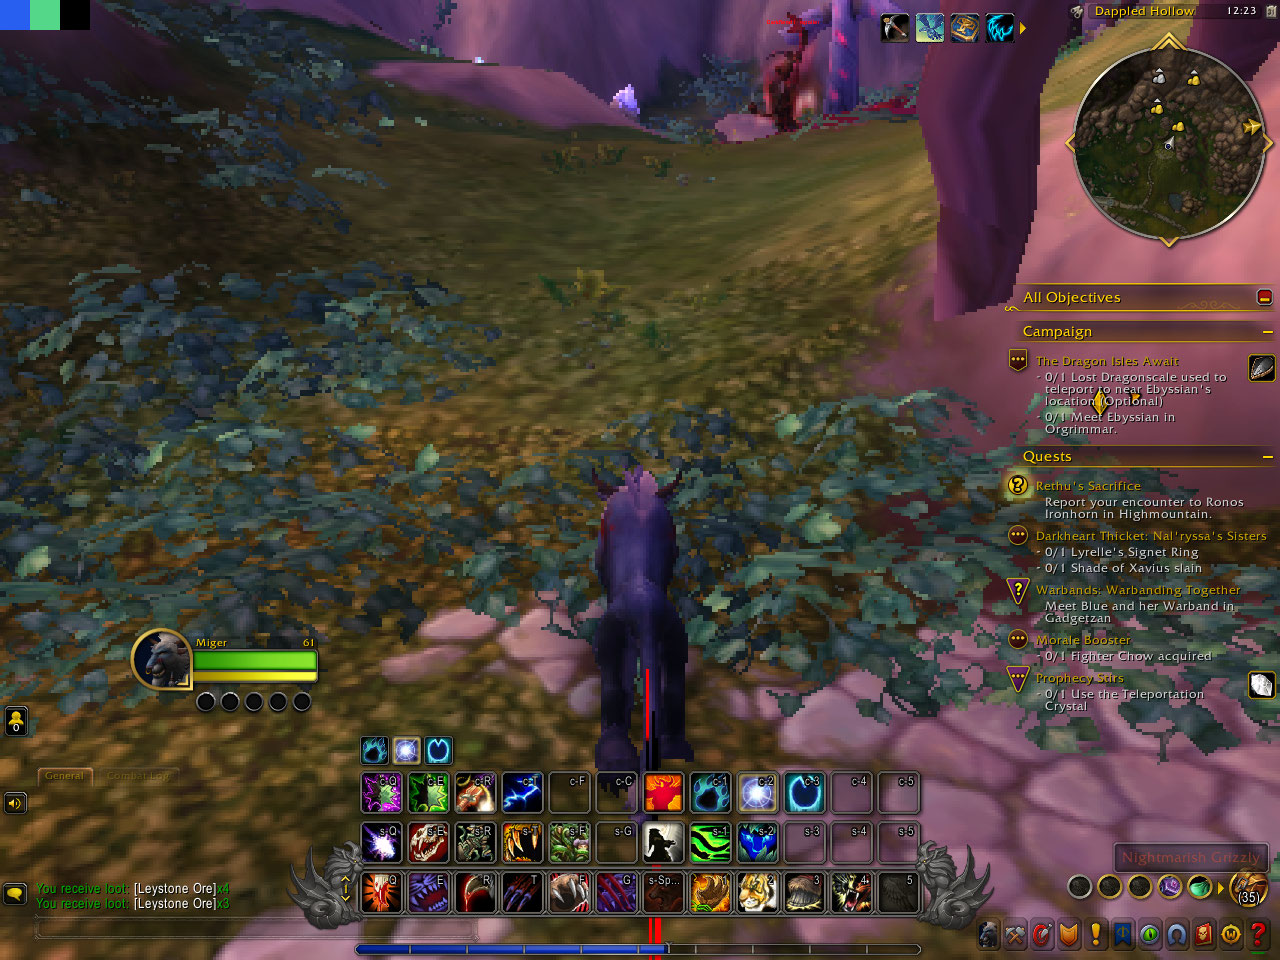ore: (604, 84, 644, 122)
